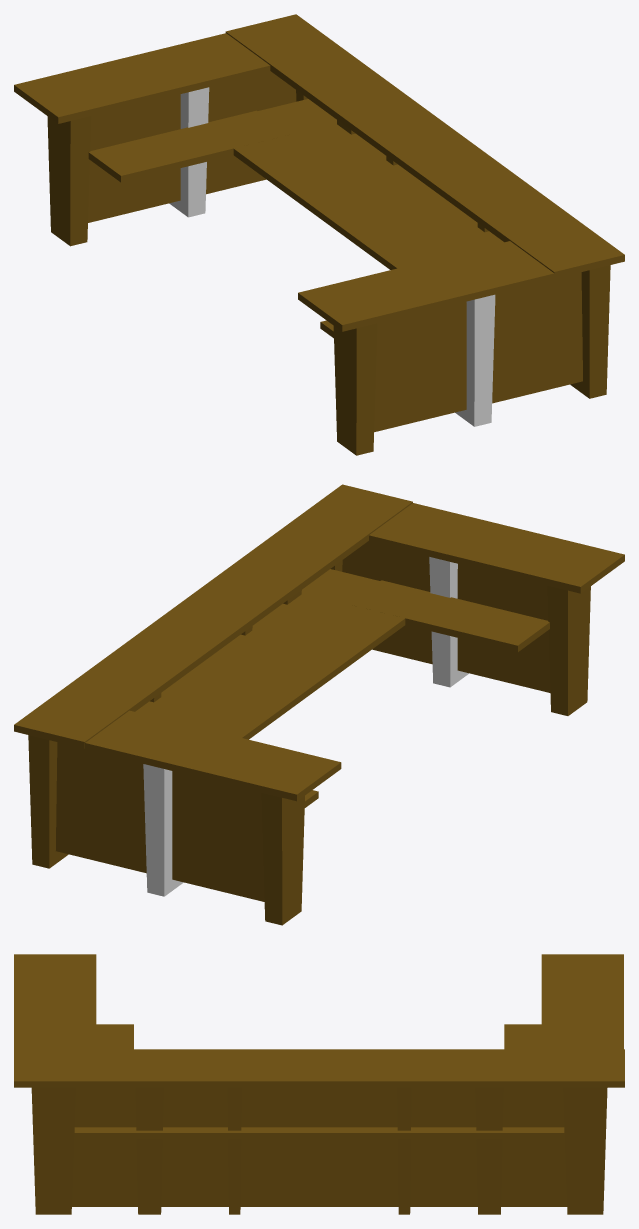
File: better_reception.fbx
The picture shows the model from 3 angles, top to bottom: view 1: azimuth 30°, elevation 25°; view 2: azimuth 150°, elevation 25°; view 3: azimuth 270°, elevation 25°; orthographic projection. The views are drawn at different scales.
Parts seen in each view (by area): view 1: Cube.013, Cube.011, Plane.006, Plane.009, Cube.007, Cube.008, Cube.006, Cube.009, Cube.005, Cube.015; view 2: Cube.013, Cube.011, Plane.006, Plane.009, Cube.008, Cube.007, Cube.006, Cube.010, Cube.005, Cube.015; view 3: Plane.010, Cube.013, Cube.015, Cube.007, Cube.008, Cube.004, Cube.011, Cube.012, Cube.009, Cube.010.
Boxes of the visible parts, <box> form: Cube.013: <box>225,14,624,278</box>; Cube.011: <box>233,99,503,269</box>; Plane.006: <box>88,94,466,432</box>; Plane.009: <box>206,71,582,403</box>; Cube.007: <box>298,241,554,331</box>; Cube.008: <box>14,33,270,123</box>; Cube.006: <box>47,116,377,455</box>; Cube.009: <box>88,110,289,182</box>; Cube.005: <box>169,87,495,426</box>; Cube.015: <box>296,90,610,398</box>; Cube.013: <box>14,484,412,748</box>; Cube.011: <box>135,569,405,739</box>; Plane.006: <box>172,564,550,901</box>; Plane.009: <box>56,541,432,873</box>; Cube.008: <box>85,710,341,801</box>; Cube.007: <box>368,503,624,593</box>; Cube.006: <box>261,585,590,925</box>; Cube.010: <box>349,580,549,652</box>; Cube.005: <box>143,557,468,896</box>; Cube.015: <box>28,560,342,868</box>; Plane.010: <box>72,1087,567,1206</box>; Cube.013: <box>14,1049,624,1087</box>; Cube.015: <box>31,1087,607,1214</box>; Cube.007: <box>14,954,96,1049</box>; Cube.008: <box>541,954,623,1049</box>; Cube.004: <box>135,1087,503,1214</box>; Cube.011: <box>74,1127,564,1139</box>; Cube.012: <box>227,1087,411,1214</box>; Cube.009: <box>504,1024,541,1049</box>; Cube.010: <box>96,1024,133,1049</box>.
Size of the model in its own units: 914 by 453 by 1840.
